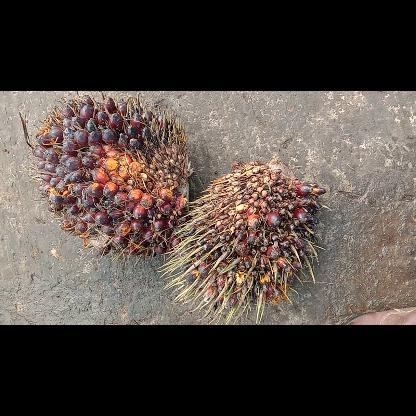Kurang masak: (23, 91, 200, 263)
TBS abnormal: (157, 160, 330, 324)
